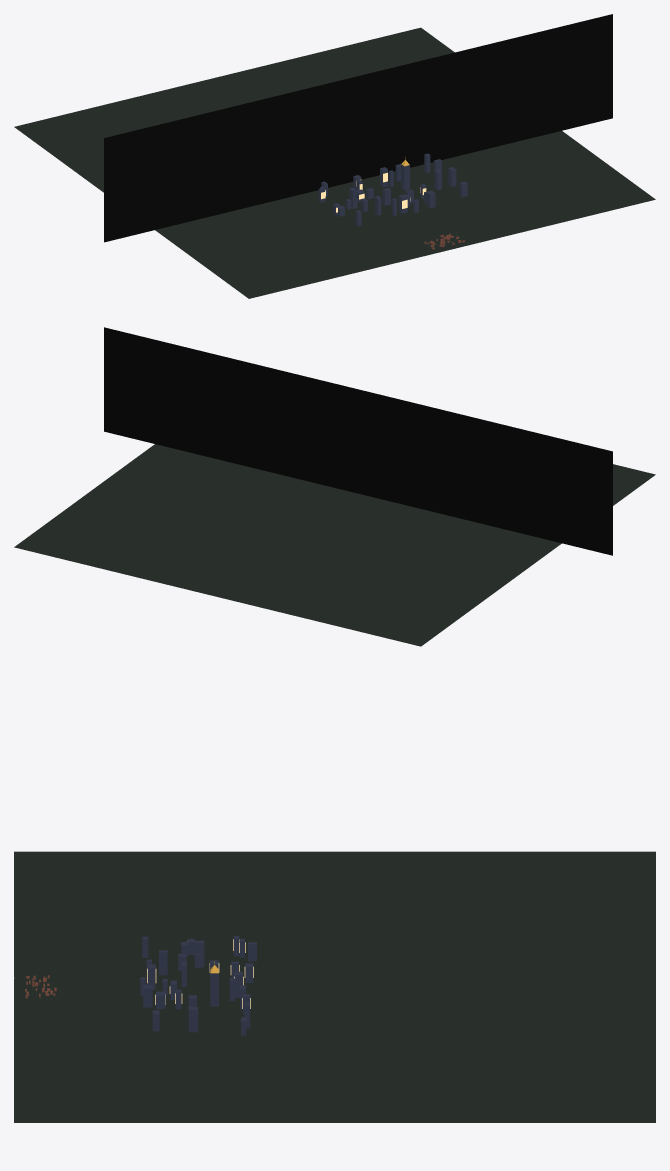
3 views of the same model, one above another, from view 1: azimuth 30°, elevation 25°; view 2: azimuth 150°, elevation 25°; view 3: azimuth 270°, elevation 25° (orthographic). The views are drawn at different scales.
Visible parts, largest first — view 1: Static_View; view 2: Static_View; view 3: Static_View.
Part boxes in pixels (x1,y1,x2,y2): Static_View: [14, 14, 655, 298]; Static_View: [14, 327, 655, 646]; Static_View: [14, 851, 655, 1122].
Size of the model in its own units: 5000 by 981 by 4000.
Materials: 158 (78 with a texture image).
